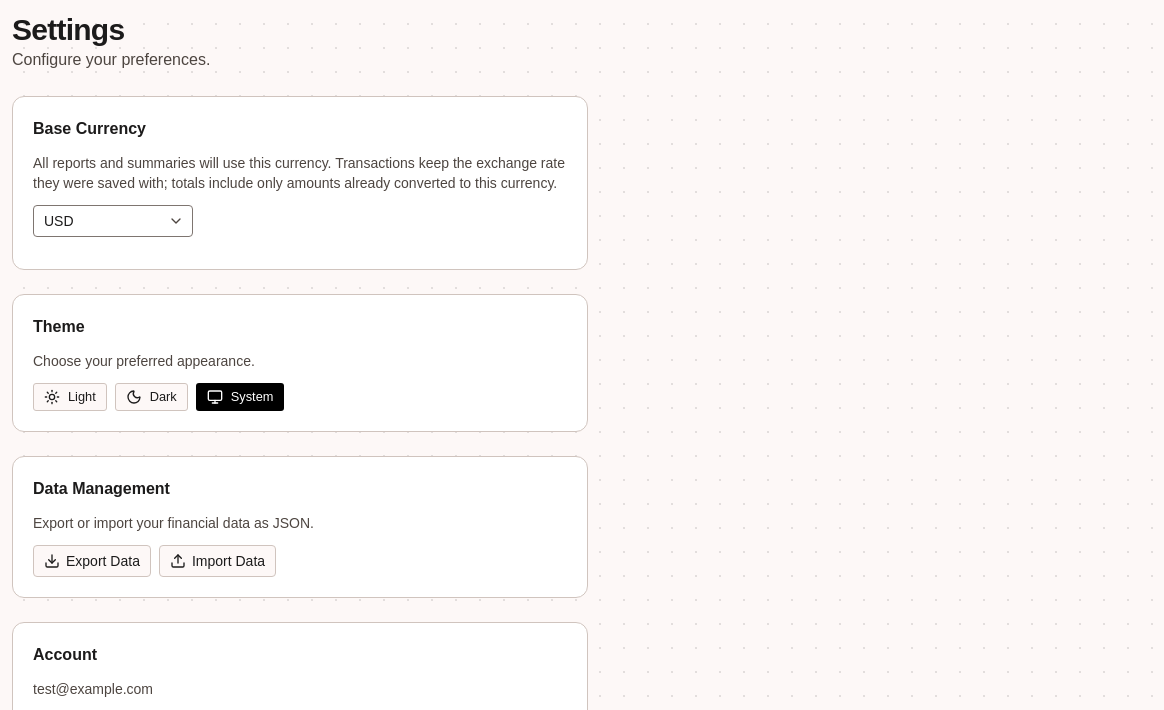
Test: Settings identity-safe export/import › aborts export and downloads nothing when the signed-in user changes mid-operation
The width and height of the screenshot is (1164, 710).
Click the button "Export Data" at [92, 561], box [33,545,151,577]
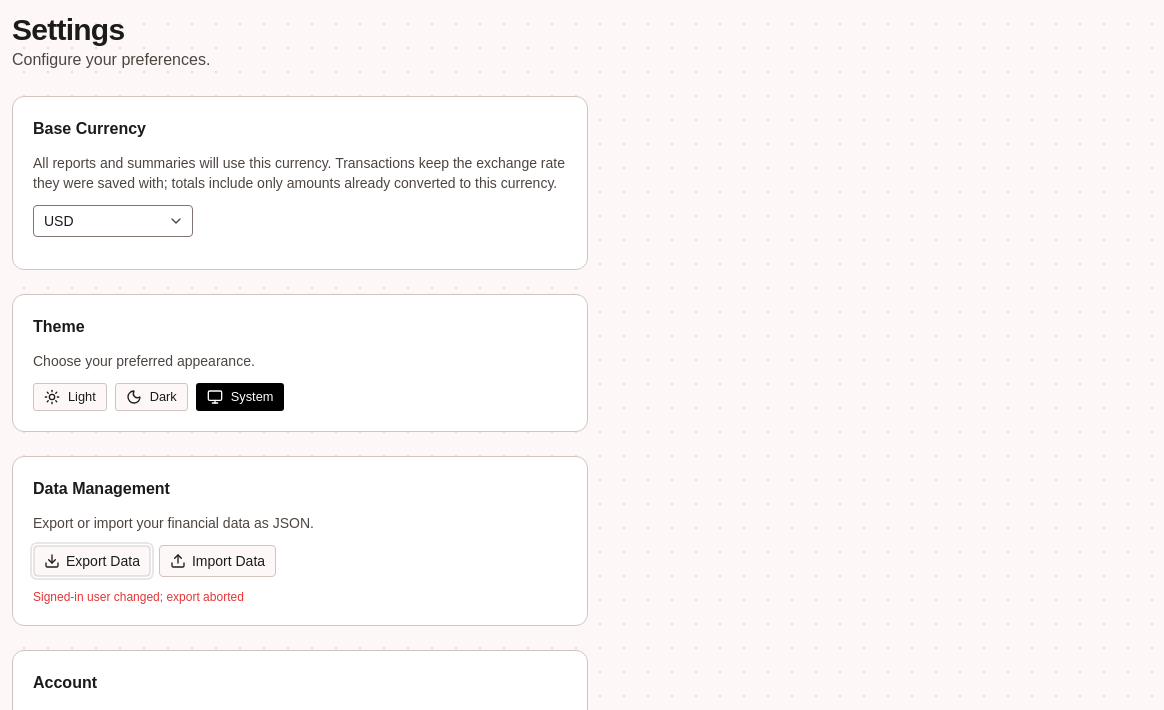
expect the text "Signed-in user changed; export aborted" is shown: met, box [33,590,244,604]
